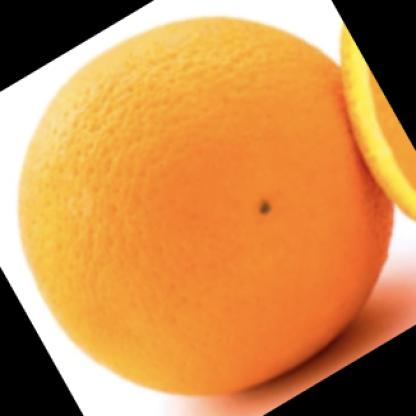fresh: (19, 19, 392, 389)
